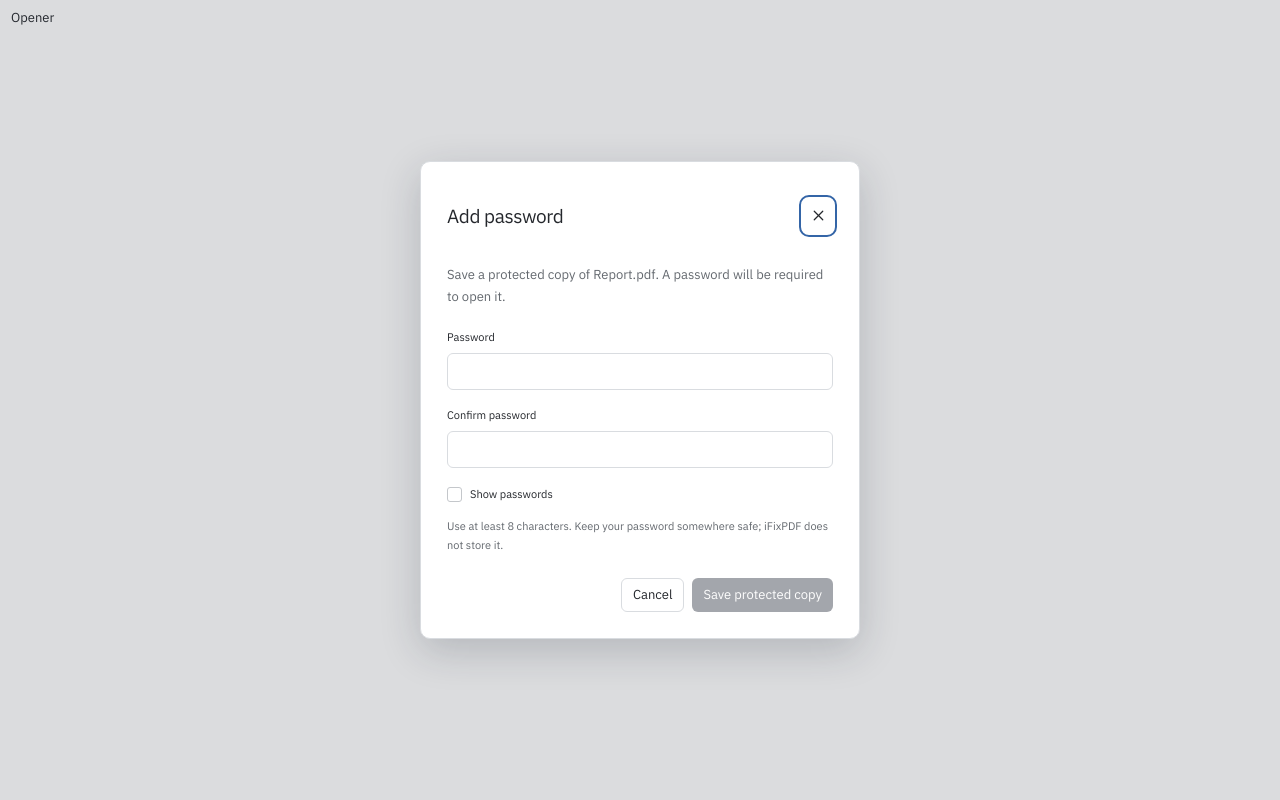
Scenario: PasswordDialog › a protect failure shows the error and re-enables submit
Type "correct-horse-9" into the password field labelled "Password" at (640, 371), box [447,353,833,390]
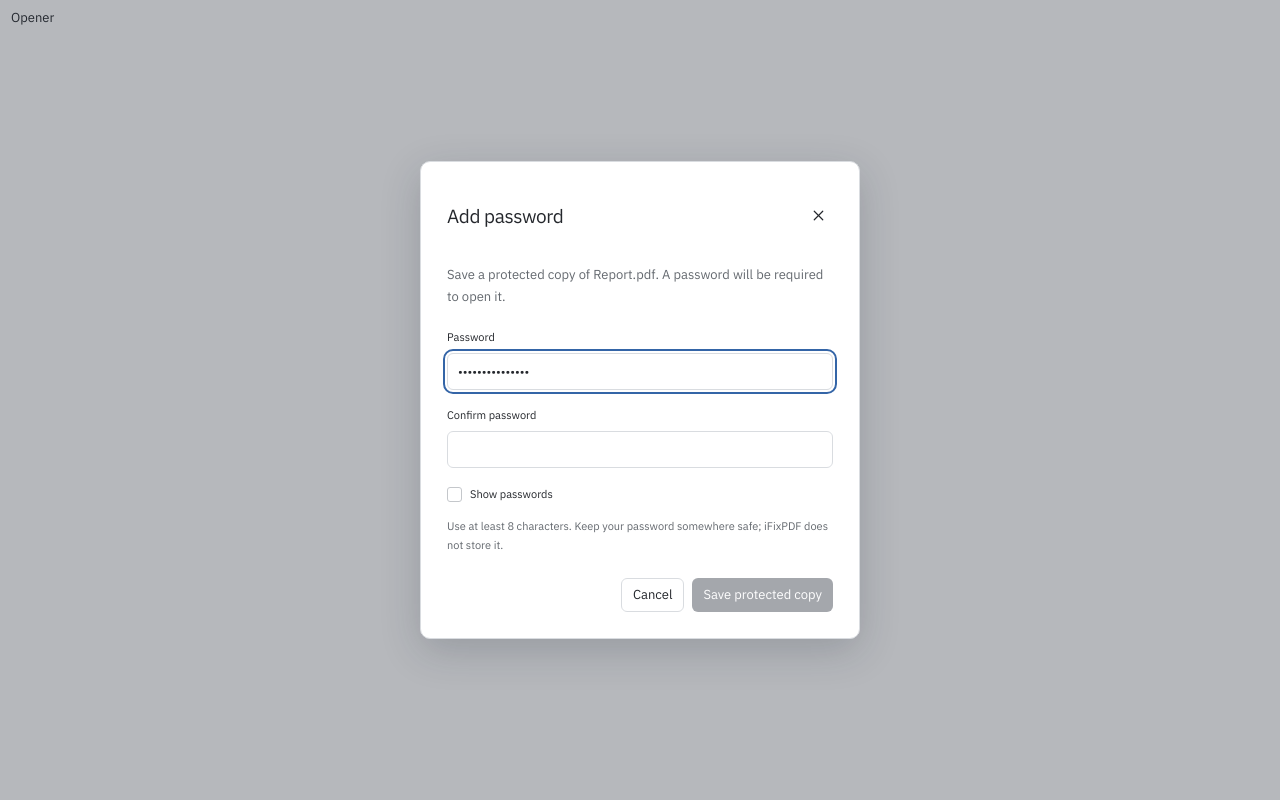
Type "correct-horse-9" into the password field labelled "Confirm password" at (640, 449), box [447,431,833,468]
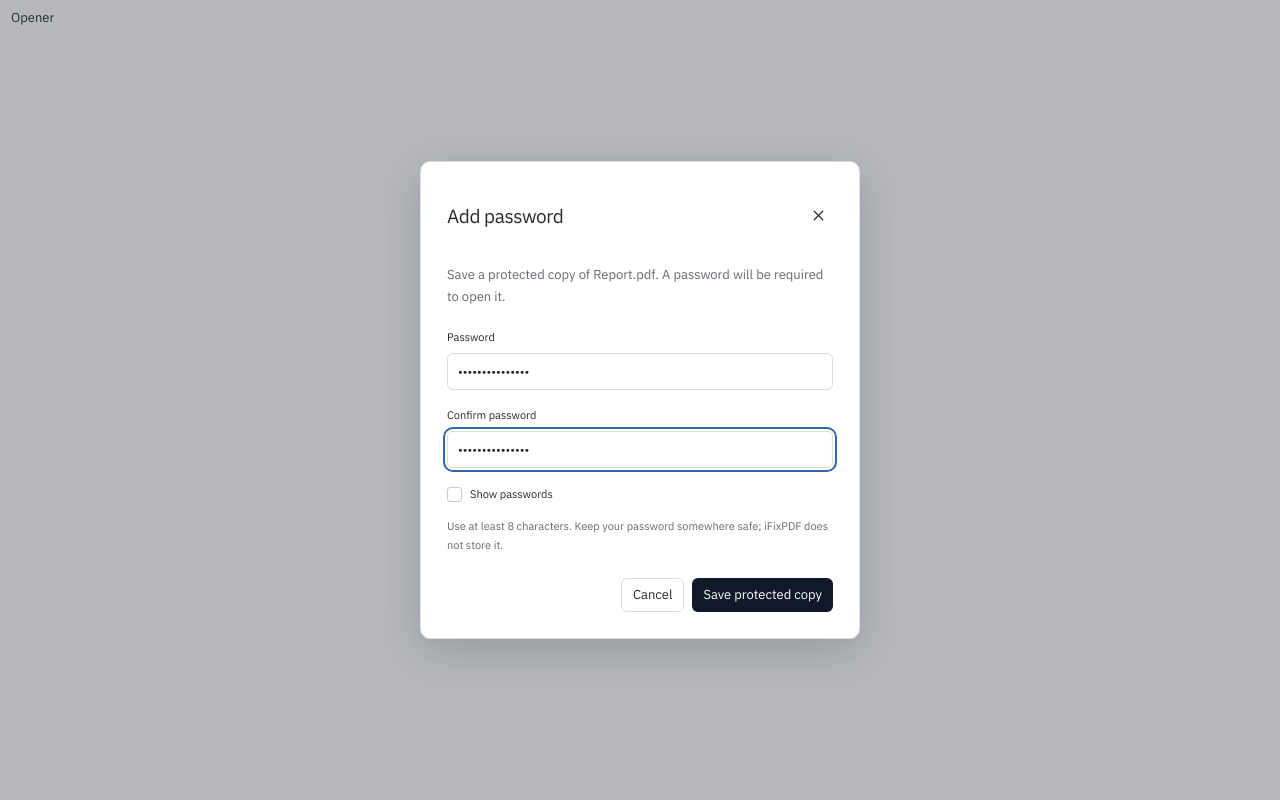
Click the button "Save protected copy" at (763, 595), box [692,578,833,612]
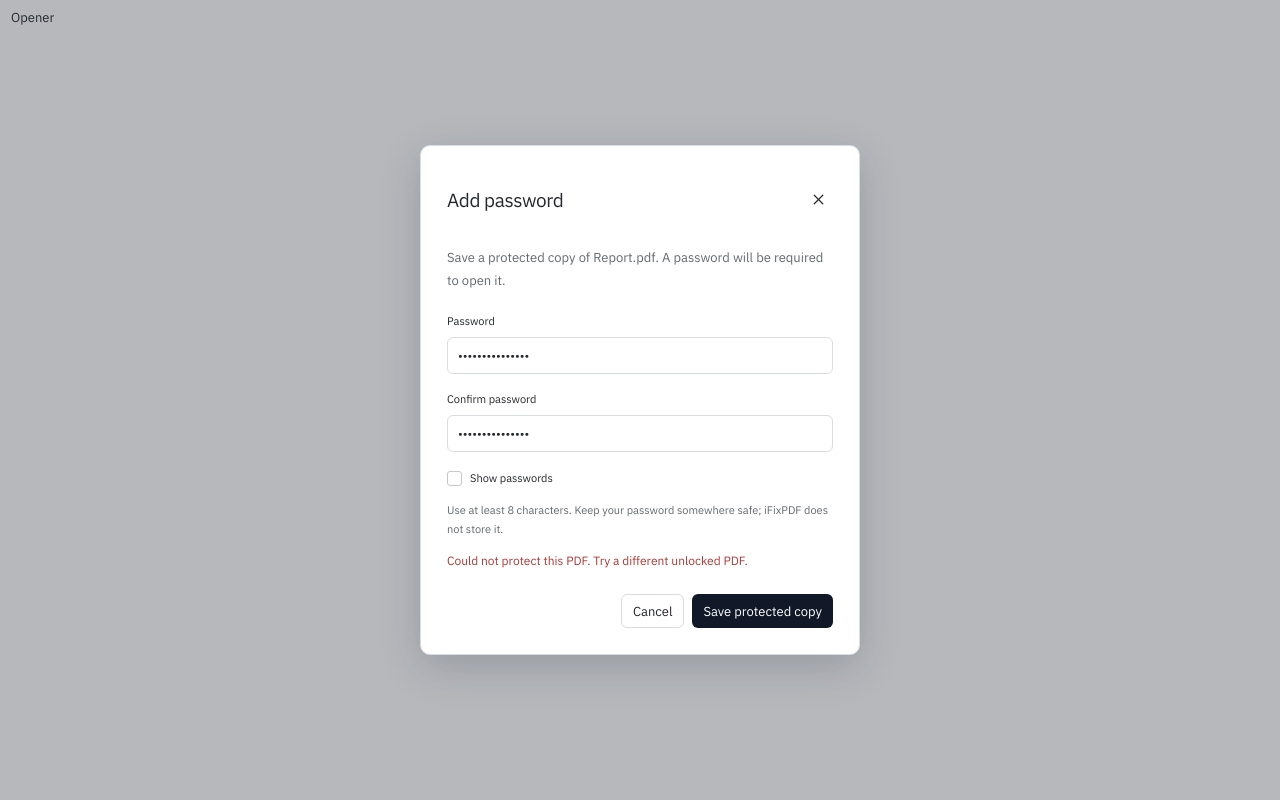
Expected: the button "Save protected copy" is enabled, [692,594,833,628]
Expected: the message reads "Could not protect this PDF. Try a different unlocked PDF.", [447,553,748,568]
